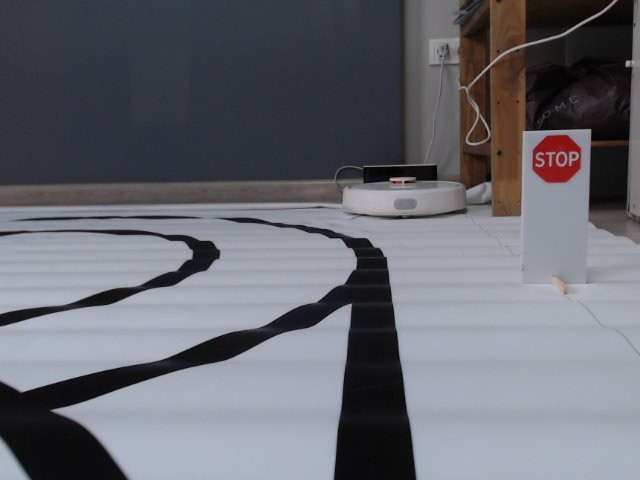Stop: (530, 133, 583, 185)
